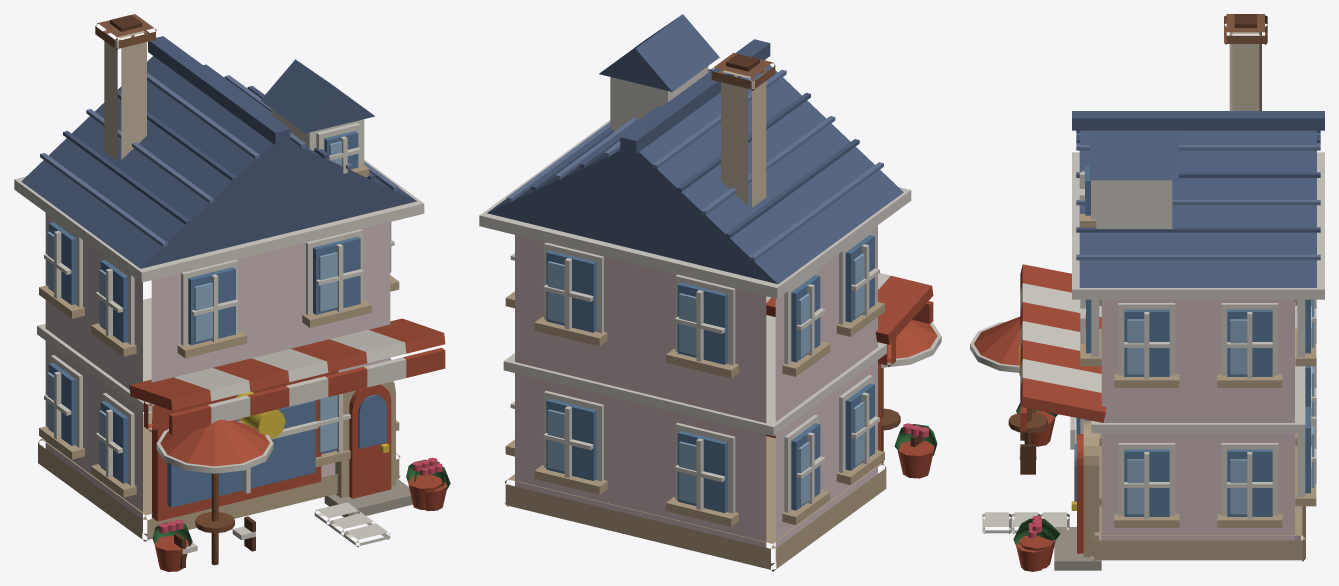
Rendered from shop-b.glb.
3 views of the same model, side by side, from view 1: azimuth 30°, elevation 25°; view 2: azimuth 150°, elevation 25°; view 3: azimuth 270°, elevation 25° (orthographic). The views are drawn at different scales.
Visible parts, largest first — view 1: shop-b; view 2: shop-b; view 3: shop-b.
Boxes of the visible parts, x1,y1,x2,y2 form: shop-b: (14, 14, 450, 571); shop-b: (479, 14, 941, 571); shop-b: (970, 14, 1324, 571).
Size of the model in its own units: 0.8068 by 1.22 by 0.86.
